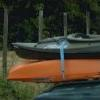Boat: (9, 31, 100, 92)
